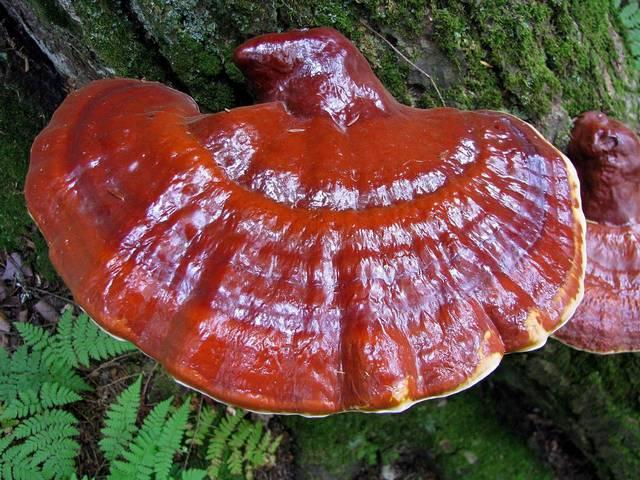poisonous_mushroom: (23, 25, 590, 419), (548, 108, 638, 355)
